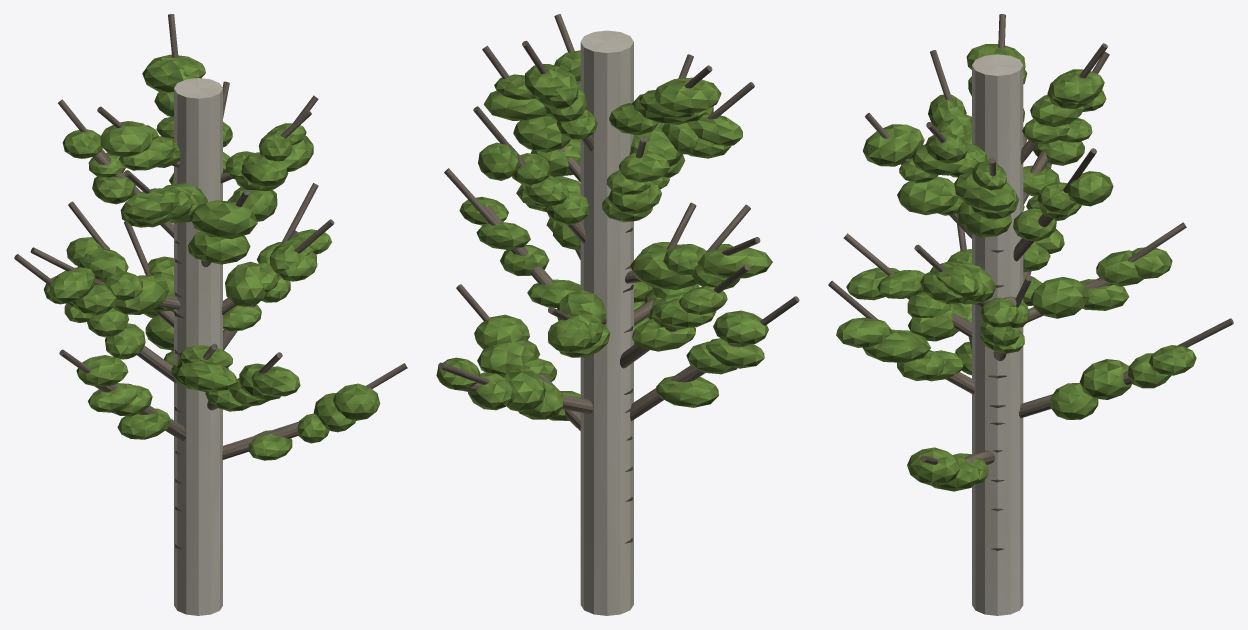
Rendered from small-lod0.glb.
3 renders of one model, left to right at view 1: azimuth 30°, elevation 25°; view 2: azimuth 150°, elevation 25°; view 3: azimuth 270°, elevation 25°, orthographic. The views are drawn at different scales.
Visible parts, largest first — view 1: birch-bark-branches-leaf-masses; view 2: birch-bark-branches-leaf-masses; view 3: birch-bark-branches-leaf-masses.
Boxes of the visible parts, left/top/right/bottom form: birch-bark-branches-leaf-masses: left=14, top=14, right=407, bottom=615; birch-bark-branches-leaf-masses: left=436, top=14, right=799, bottom=615; birch-bark-branches-leaf-masses: left=828, top=14, right=1233, bottom=615.
Bounding box in the file's own units: 7.03 × 11.15 × 7.15.
